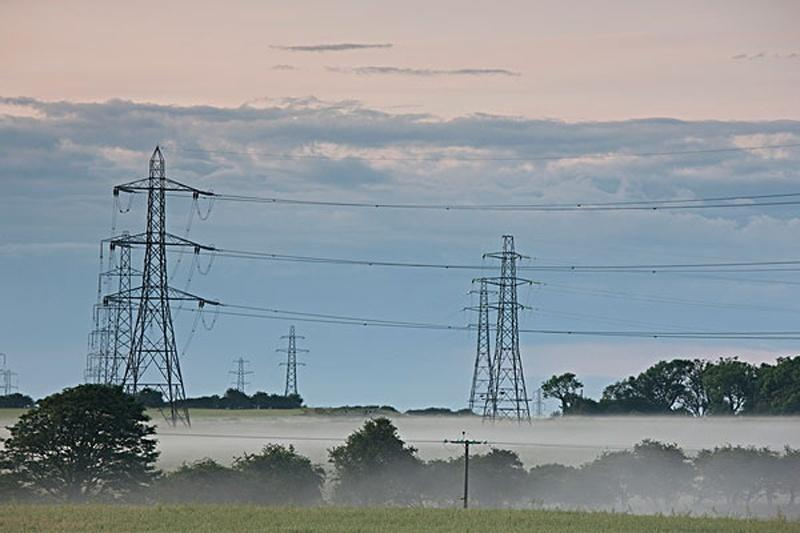power_tower: (103, 145, 222, 432), (93, 228, 158, 410), (478, 233, 536, 424), (462, 278, 506, 416), (274, 323, 310, 404), (86, 324, 114, 383), (226, 356, 254, 392), (0, 350, 20, 395), (531, 386, 550, 418)
